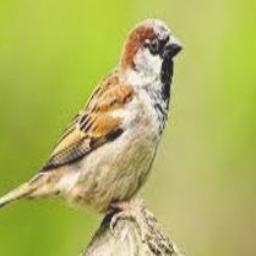Sparrow: (0, 17, 184, 234)
